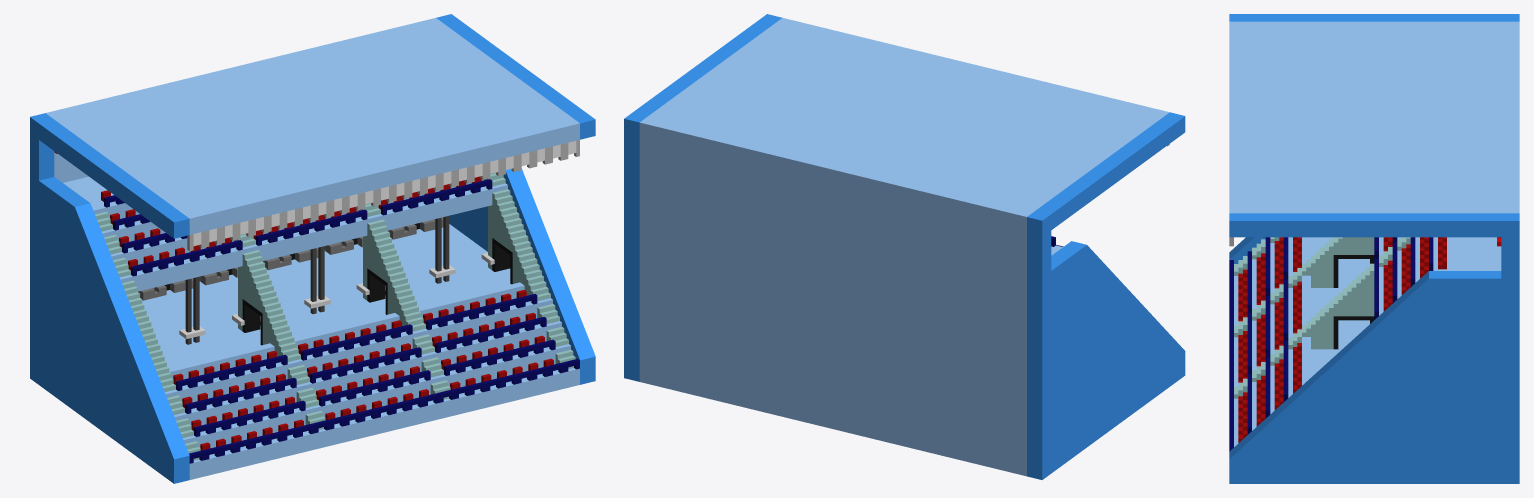
File: stadium-section.glb
The picture shows the model from 3 angles, left to right: view 1: azimuth 30°, elevation 25°; view 2: azimuth 150°, elevation 25°; view 3: azimuth 270°, elevation 25°; orthographic projection.
Visible parts, largest first — view 1: stadium-seating, stadium-wall-left, stadium-wall-right; view 2: stadium-seating, stadium-wall-left, stadium-wall-right; view 3: stadium-seating, stadium-wall-right, stadium-wall-left.
Boxes of the visible parts, x1,y1,x2,y2 form: stadium-seating: (46, 18, 579, 479); stadium-wall-left: (30, 113, 189, 483); stadium-wall-right: (436, 14, 595, 384); stadium-seating: (639, 18, 1169, 476); stadium-wall-left: (1027, 112, 1185, 479); stadium-wall-right: (624, 14, 782, 381); stadium-seating: (1229, 21, 1519, 451); stadium-wall-right: (1229, 213, 1519, 483); stadium-wall-left: (1229, 14, 1519, 263).
Size of the model in its own units: 11.2 by 6.4 by 6.4.
Materials: 2 (2 with a texture image).
